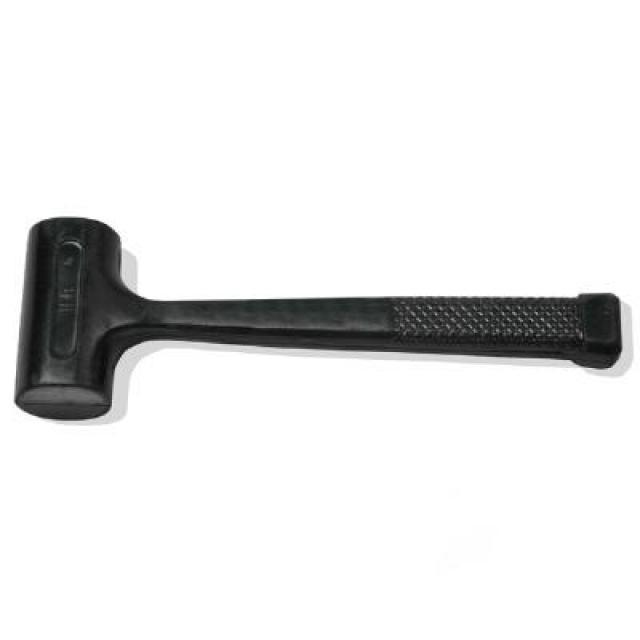hammer: (5, 197, 632, 446)
